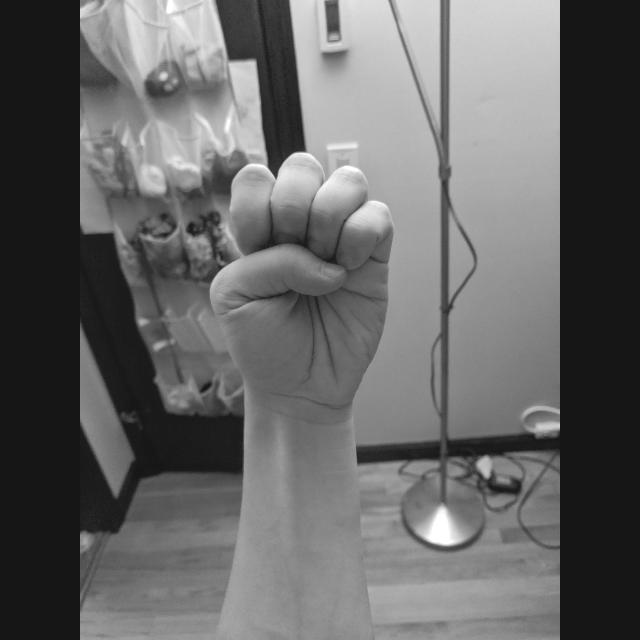E: (204, 148, 398, 414)
